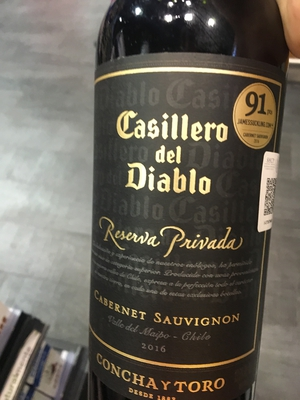casillero del diablo reserva privada cabernet sauvignon: (74, 3, 300, 385)
